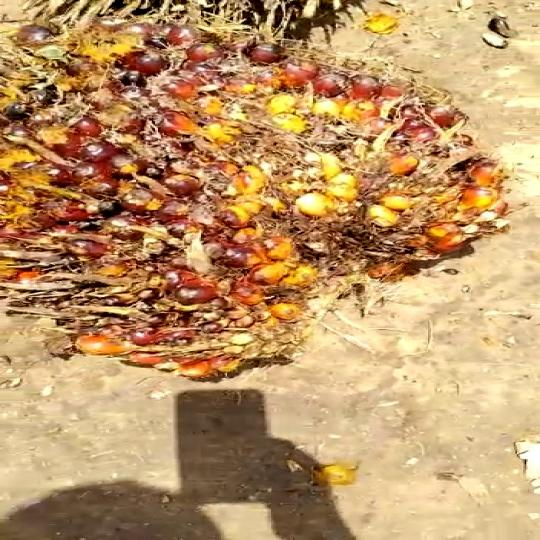masak: (0, 0, 540, 385)
